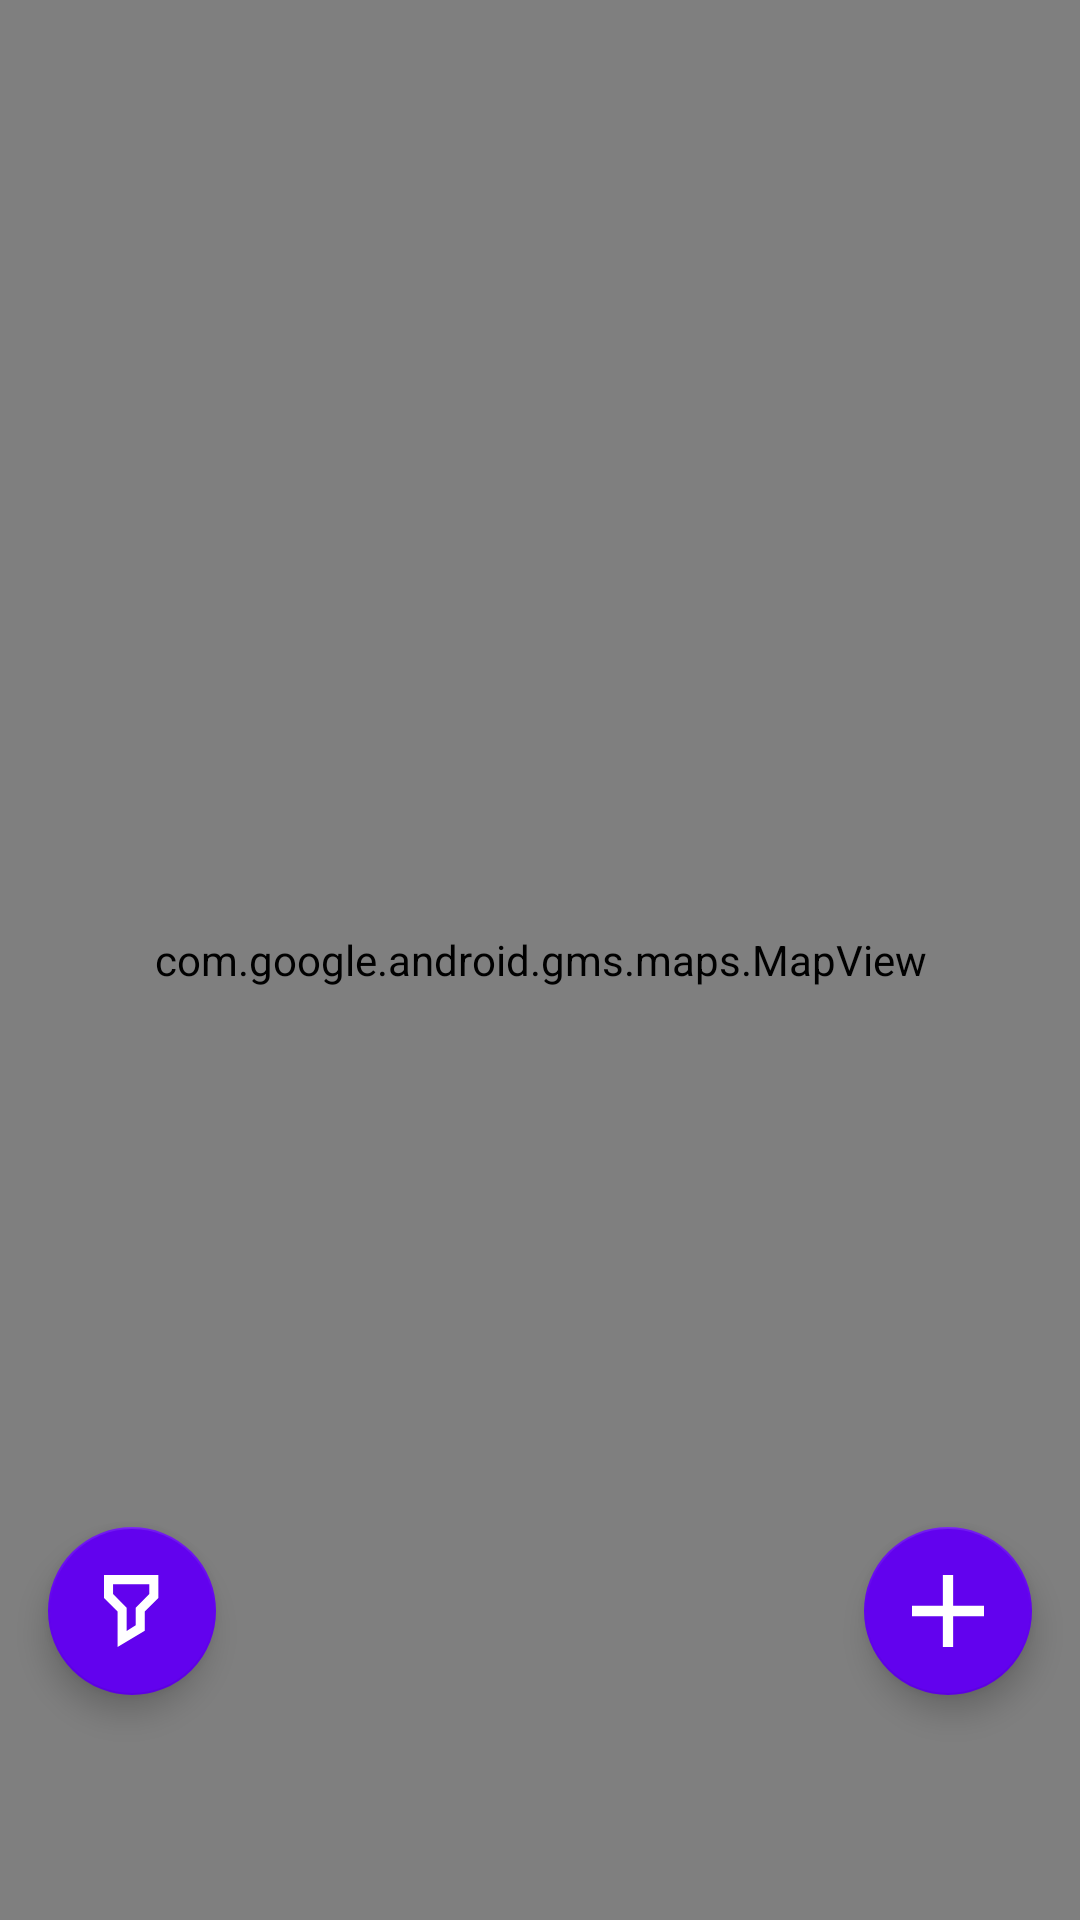

Icon click points for this 1080 × 1920 phone screenshot, format (x=x, y=y):
filter: (x=132, y=1611)
plus: (x=948, y=1611)
